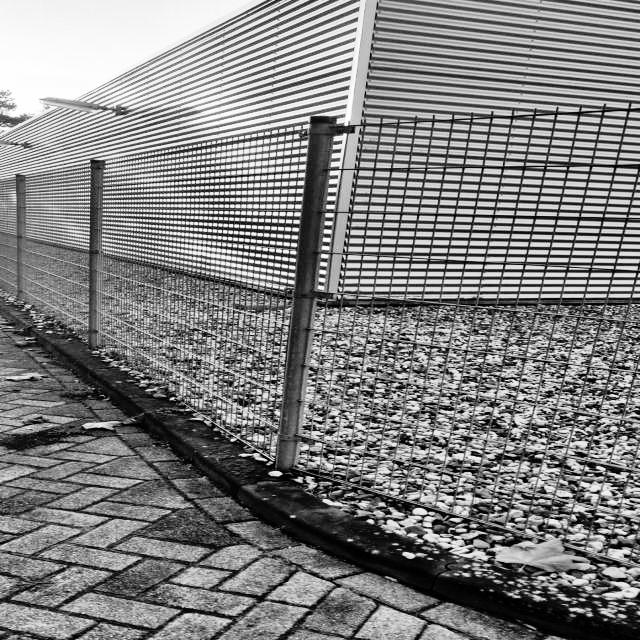fences: (318, 121, 636, 554), (12, 140, 310, 416)
